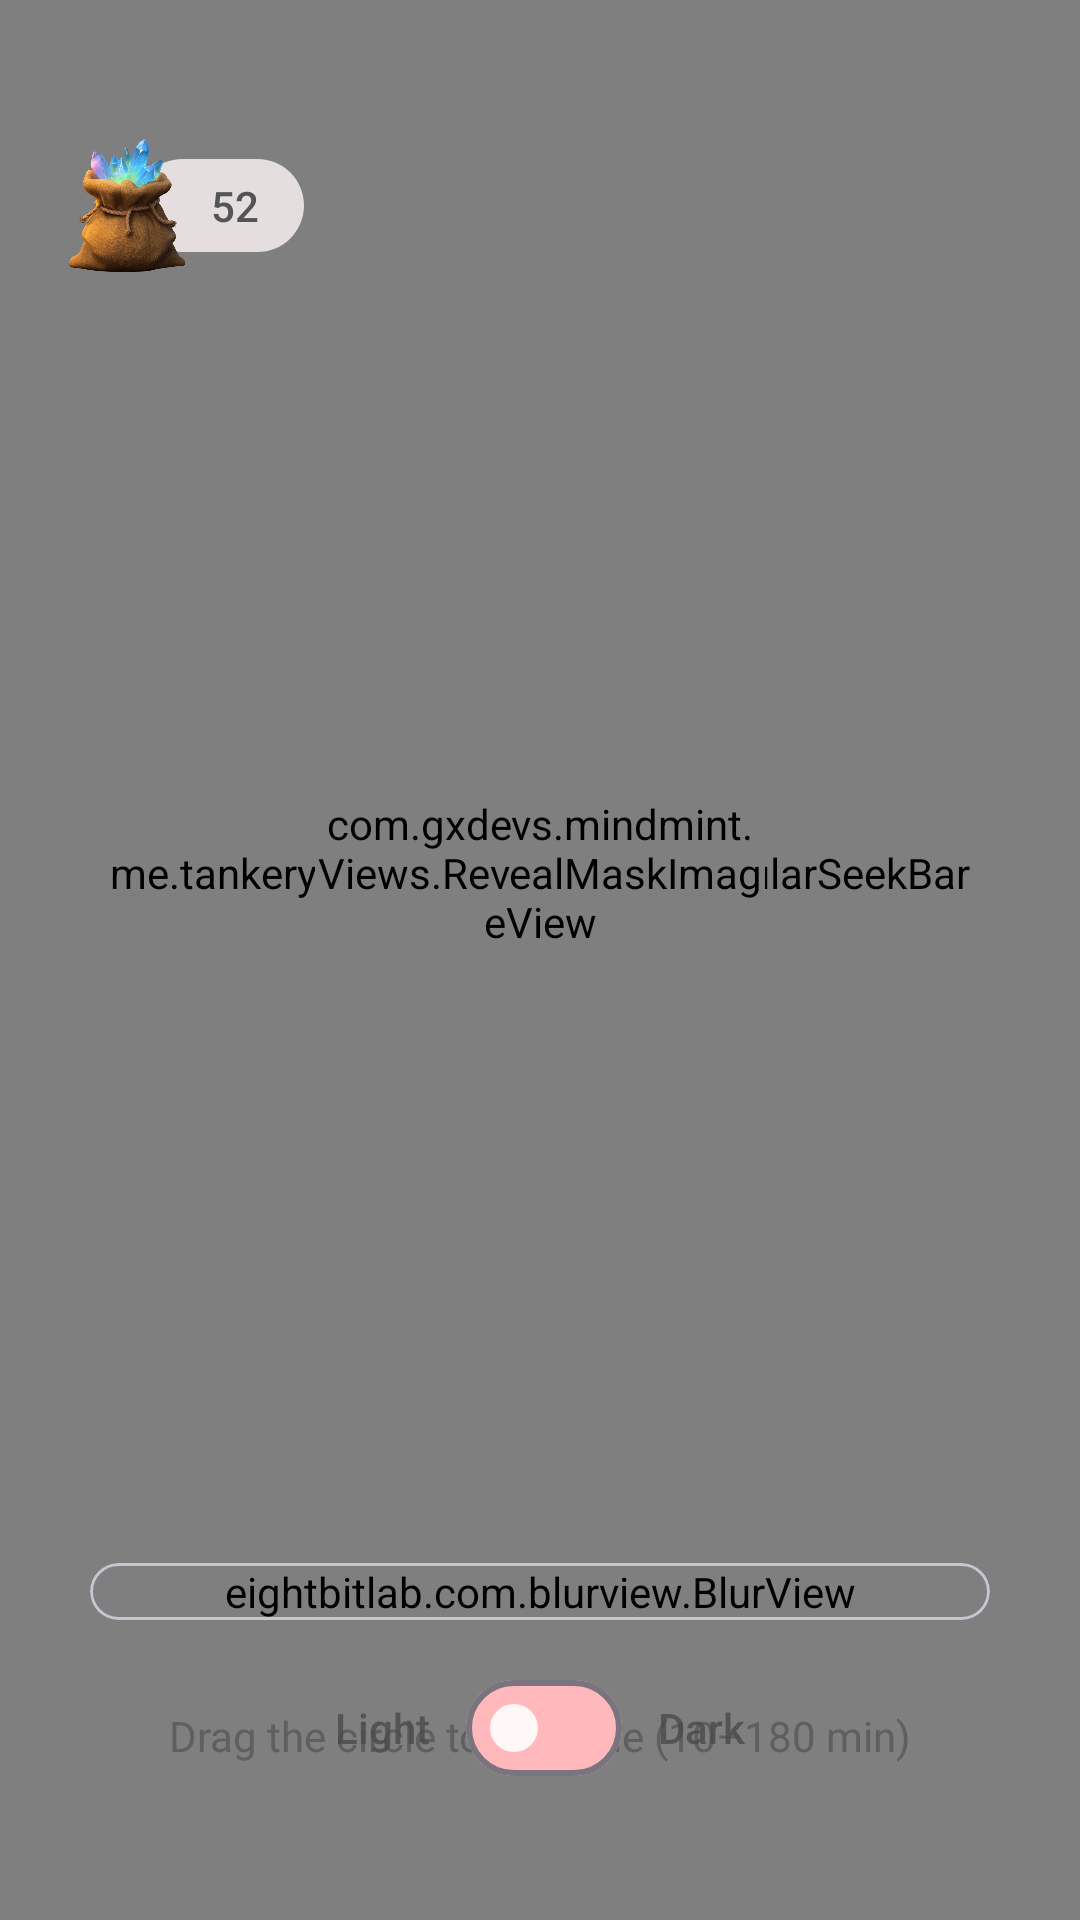

Screen size 1080 x 1920. Icon name, then its center in pixels as point (x, y):
sack: point (132, 205)
